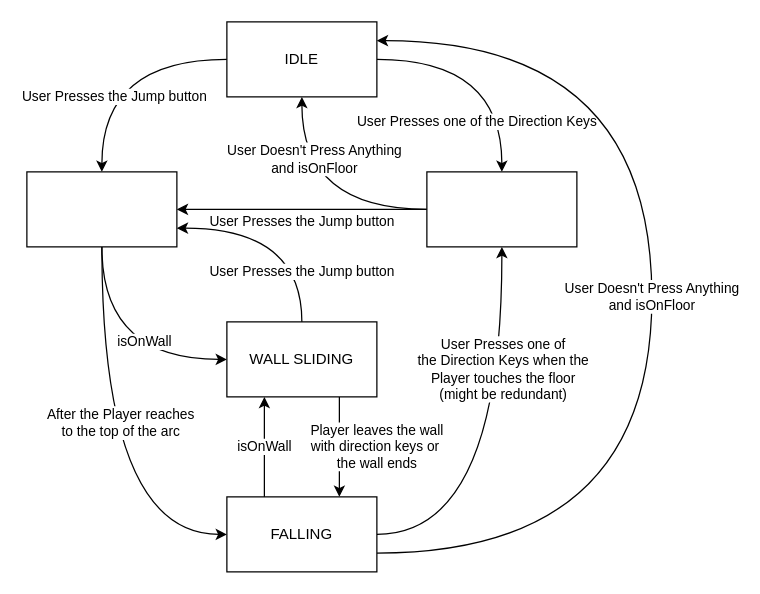
Some shapes in this 760 by 594 pixel diagram are drawn without their labels. The shapes that lost their labels are listed below. From the top down, each one's centre as x and y in pixels, then its label:
[101,209]: JUMPING
[501,209]: RUNNING
